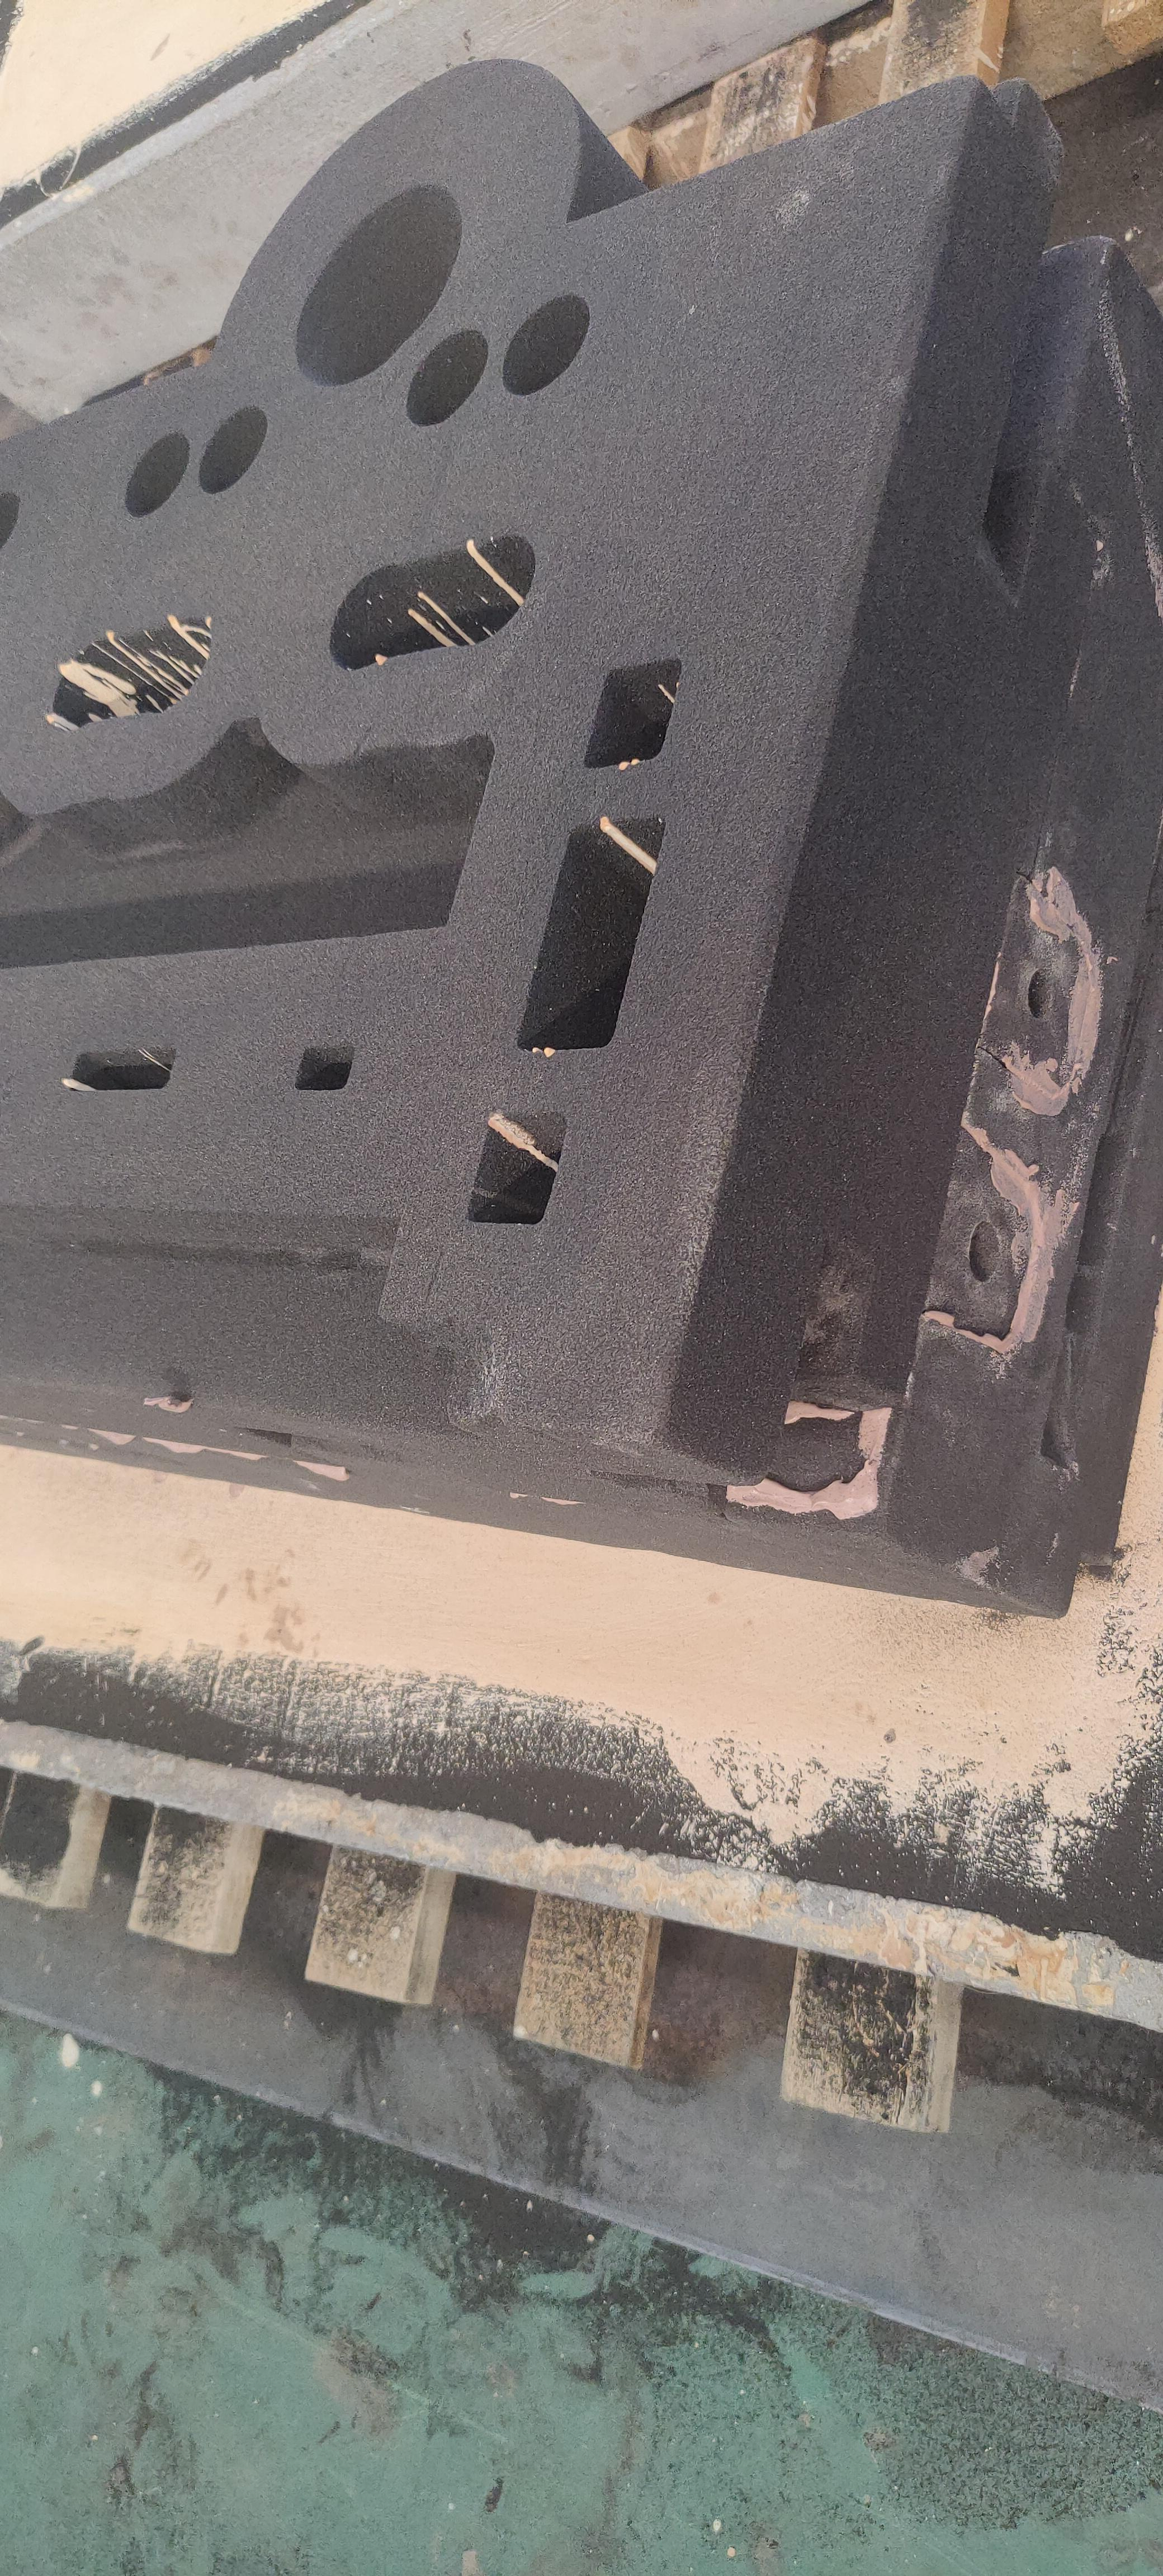pouring hole: (292, 184, 467, 388)
